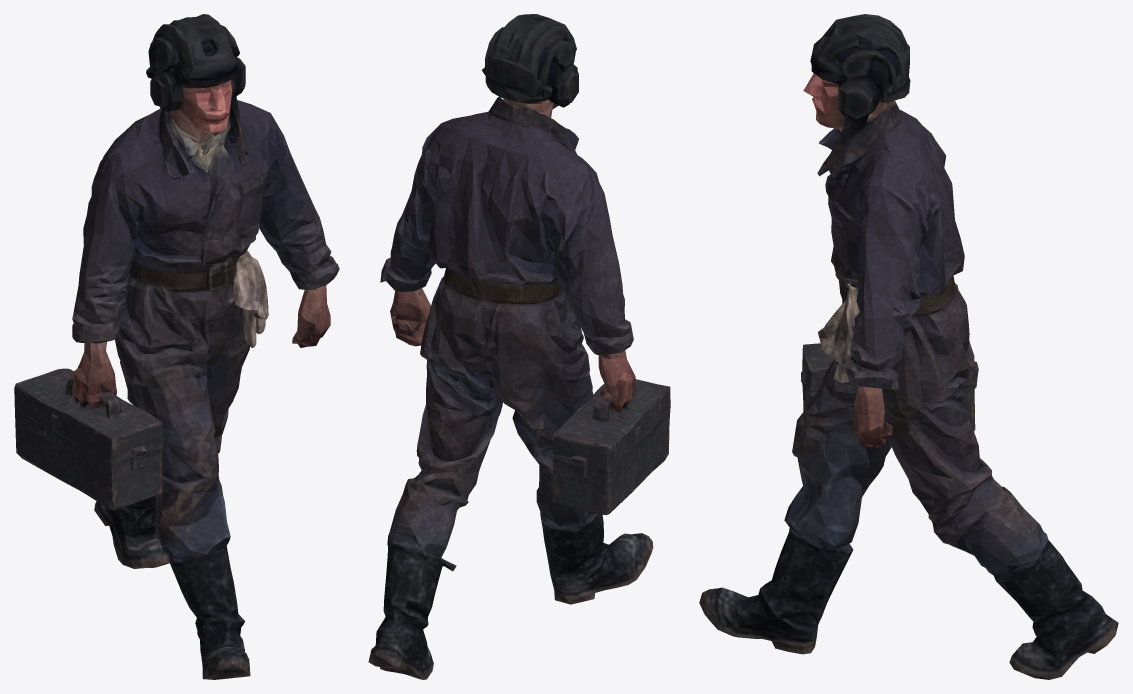
File: walk_su_mech_b.glb
3 renders of one model, left to right at view 1: azimuth 30°, elevation 25°; view 2: azimuth 150°, elevation 25°; view 3: azimuth 270°, elevation 25°, orthographic. The views are drawn at different scales.
Parts seen in each view (by area): view 1: geometry_0; view 2: geometry_0; view 3: geometry_0.
Boxes of the visible parts, x1,y1,x2,y2 form: geometry_0: (14, 14, 339, 679); geometry_0: (368, 14, 670, 679); geometry_0: (699, 14, 1118, 679).
Size of the model in its own units: 0.469 by 1 by 0.6035.
1 material, 1 textured.
